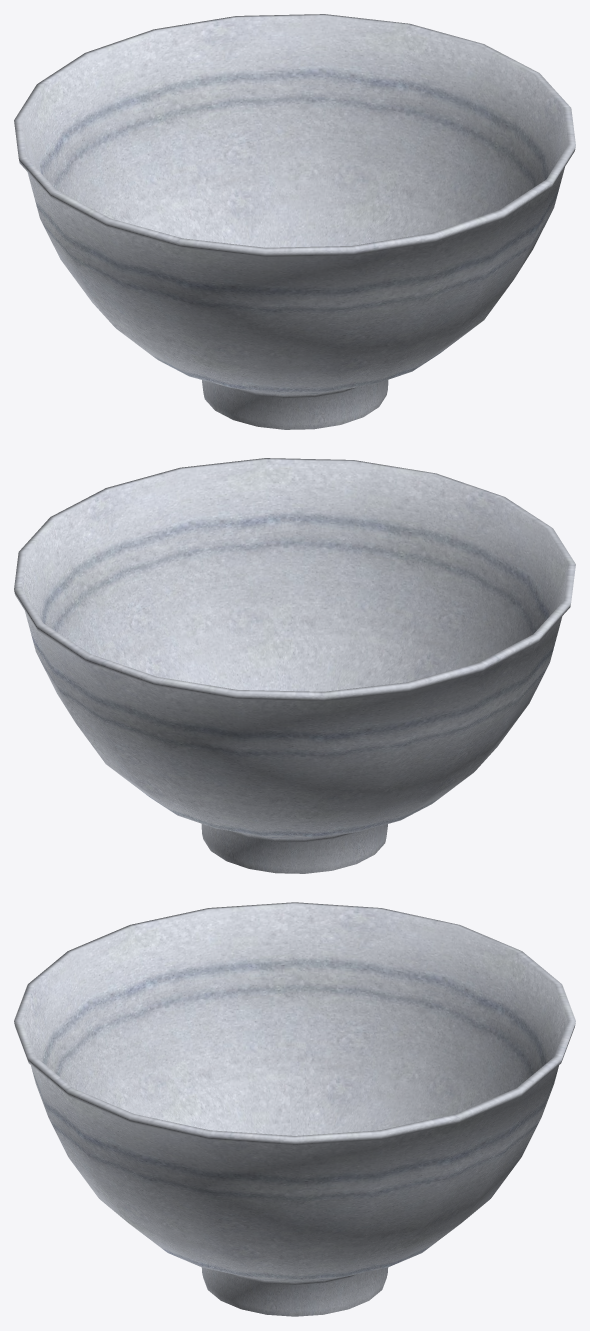
File: ricebowl_A_c02.fbx
3 views of the same model, one above another, from view 1: azimuth 30°, elevation 25°; view 2: azimuth 150°, elevation 25°; view 3: azimuth 270°, elevation 25° (orthographic).
Parts seen in each view (by area): view 1: ricebowl_A_c02; view 2: ricebowl_A_c02; view 3: ricebowl_A_c02.
Part boxes in pixels (box(x1,y1,x2,y2)): ricebowl_A_c02: box(14, 14, 575, 429); ricebowl_A_c02: box(14, 458, 575, 873); ricebowl_A_c02: box(14, 902, 575, 1316).
Size of the model in its own units: 11.98 by 6.06 by 11.98.
Materials: 1 (1 with a texture image).
